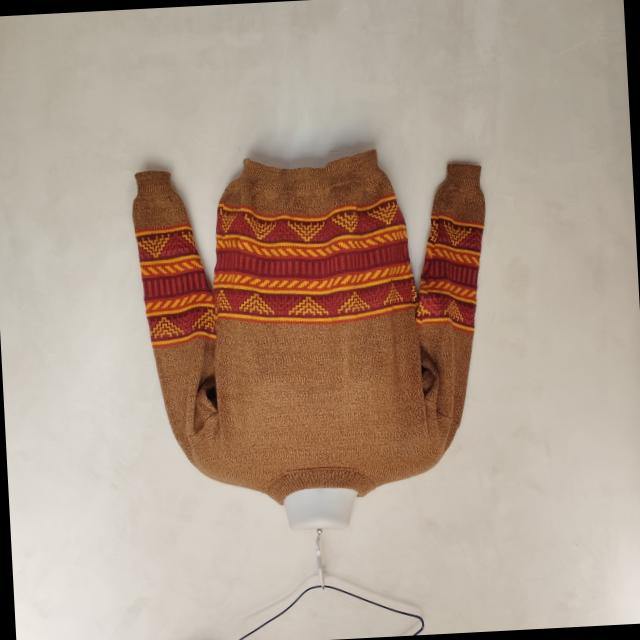Chompa: (128, 143, 502, 535)
